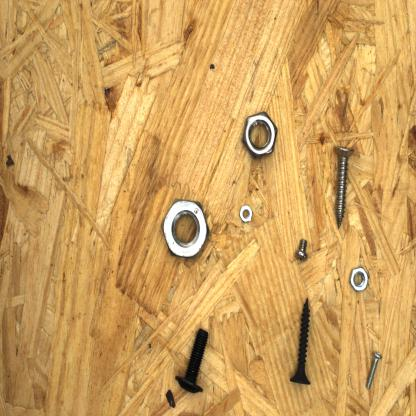screw: (172, 316, 216, 399), (286, 292, 322, 389), (327, 138, 354, 233), (362, 344, 390, 396), (285, 228, 313, 269)
